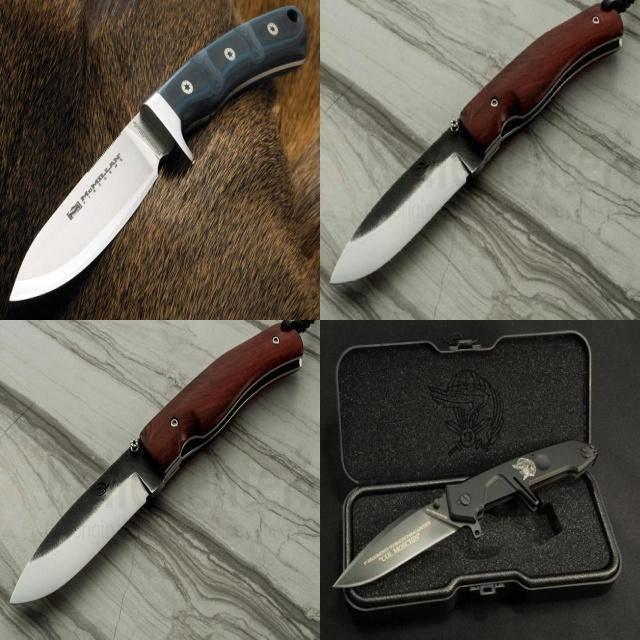-: (3, 100, 175, 306), (2, 425, 177, 611), (323, 105, 497, 292), (327, 487, 467, 591)
